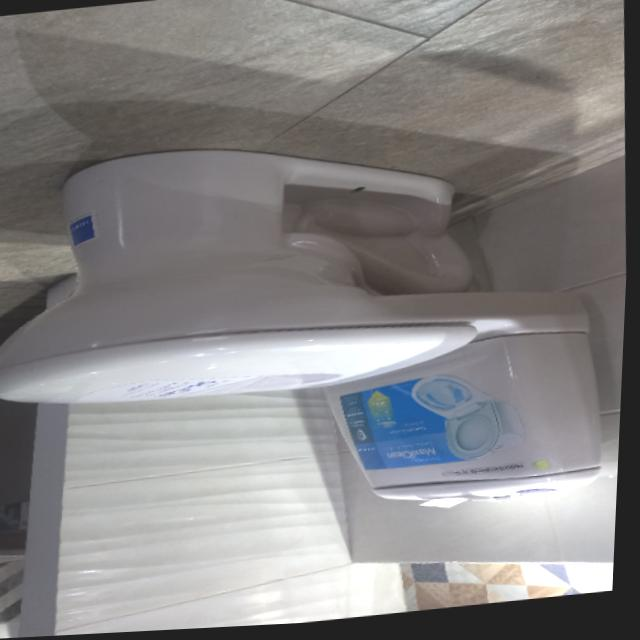toilet: (0, 111, 622, 555)
